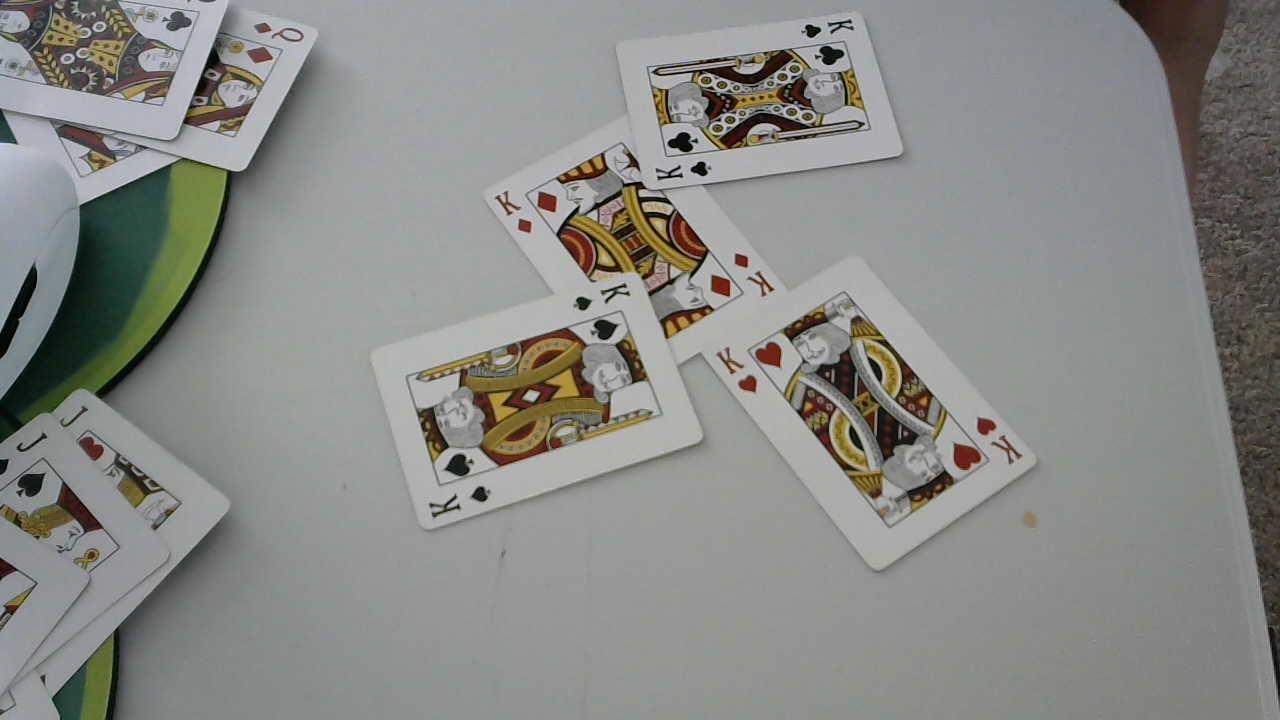KC: (654, 158, 716, 188), (796, 14, 860, 42)
KD: (730, 250, 780, 303), (492, 184, 539, 237)
KH: (971, 412, 1024, 469), (713, 340, 763, 396)
KS: (572, 277, 636, 320), (426, 482, 491, 523)
QD: (251, 20, 307, 46)
